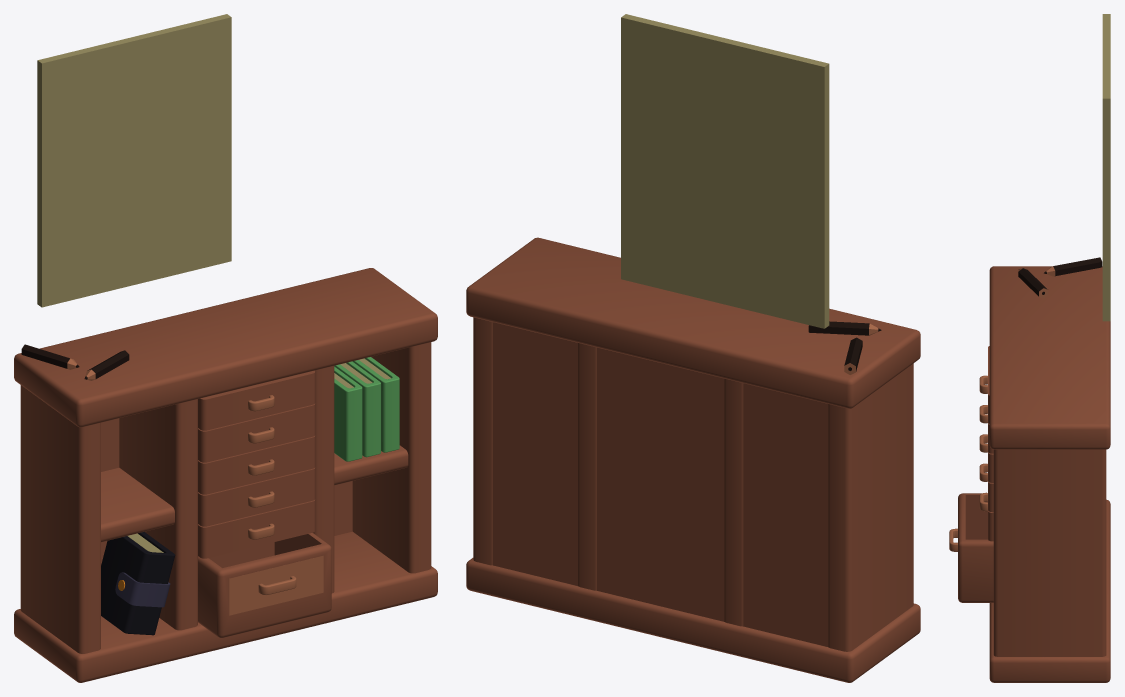
File: art_drawer_02.fbx
The picture shows the model from 3 angles, left to right: view 1: azimuth 30°, elevation 25°; view 2: azimuth 150°, elevation 25°; view 3: azimuth 270°, elevation 25°; orthographic projection. The views are drawn at different scales.
Visible parts, largest first — view 1: Cube.073, Cube.133, Cube.148, Cube.147, Cylinder.019; view 2: Cube.073, Cube.133, Cylinder.018; view 3: Cube.073, Cube.133, Cylinder.019, Cylinder.018.
Part boxes in pixels (x1=…): Cube.073: x1=14, y1=268, x2=437, y2=682; Cube.133: x1=37, y1=14, x2=231, y2=307; Cube.148: x1=334, y1=357, x2=399, y2=461; Cube.147: x1=101, y1=532, x2=175, y2=635; Cylinder.019: x1=21, y1=344, x2=79, y2=369; Cube.073: x1=466, y1=237, x2=920, y2=682; Cube.133: x1=621, y1=14, x2=829, y2=328; Cylinder.018: x1=808, y1=321, x2=881, y2=335; Cube.073: x1=949, y1=266, x2=1110, y2=682; Cube.133: x1=1102, y1=14, x2=1110, y2=321; Cylinder.019: x1=1044, y1=257, x2=1102, y2=276; Cylinder.018: x1=1018, y1=268, x2=1048, y2=298.
Bounding box in the file's own units: 149 × 225 × 63.06.
